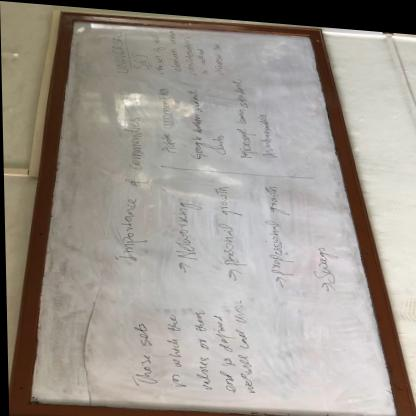Handwritten text: (110, 103, 152, 264), (257, 176, 299, 274), (208, 175, 245, 263), (166, 192, 207, 260), (121, 316, 158, 385), (188, 302, 214, 393), (229, 72, 256, 158), (183, 82, 208, 160), (162, 309, 186, 386), (215, 308, 236, 392), (153, 79, 176, 153), (102, 24, 131, 75), (306, 236, 341, 277), (255, 102, 278, 159), (149, 27, 168, 71), (211, 31, 230, 73), (167, 25, 183, 72), (126, 41, 147, 75), (182, 28, 197, 75), (210, 126, 228, 153), (197, 39, 210, 72)
